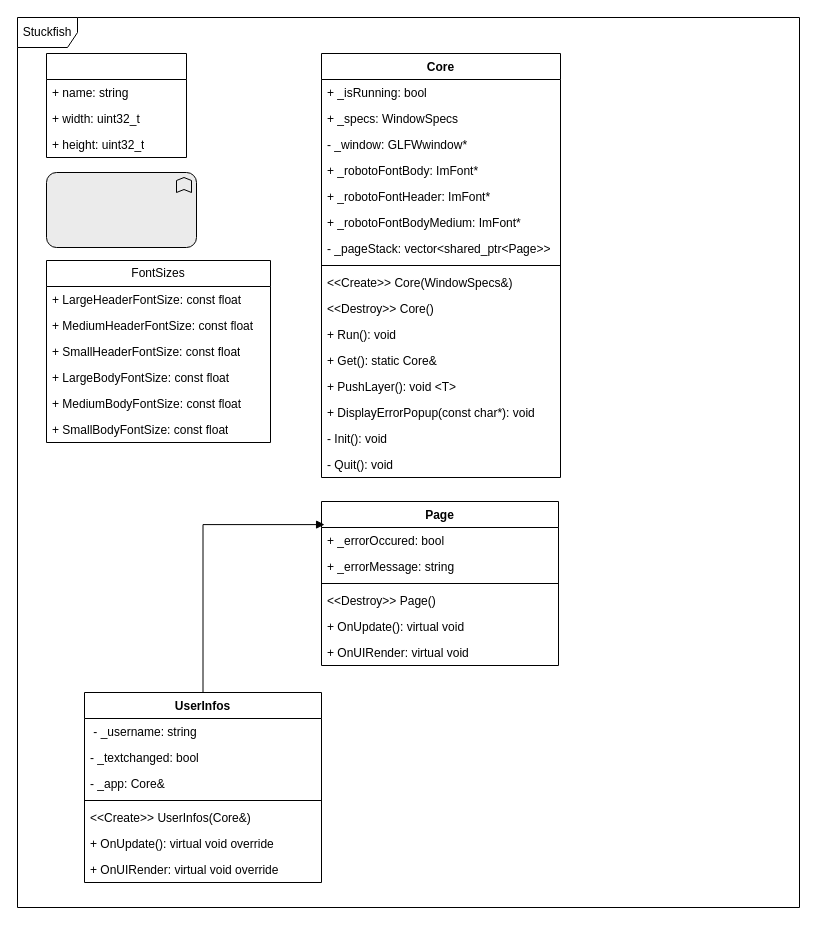
Image size: 817x925. Some labels were removed from this diagram. The shapes that lost their labels are listed below. From the top down, each one's box as (x1, y1, x2, y2) in pixels, then its label:
(46, 52, 186, 158): WindowSpecs
(46, 172, 196, 248): CreateApplication(ac, av): unique_ptr<Core>
